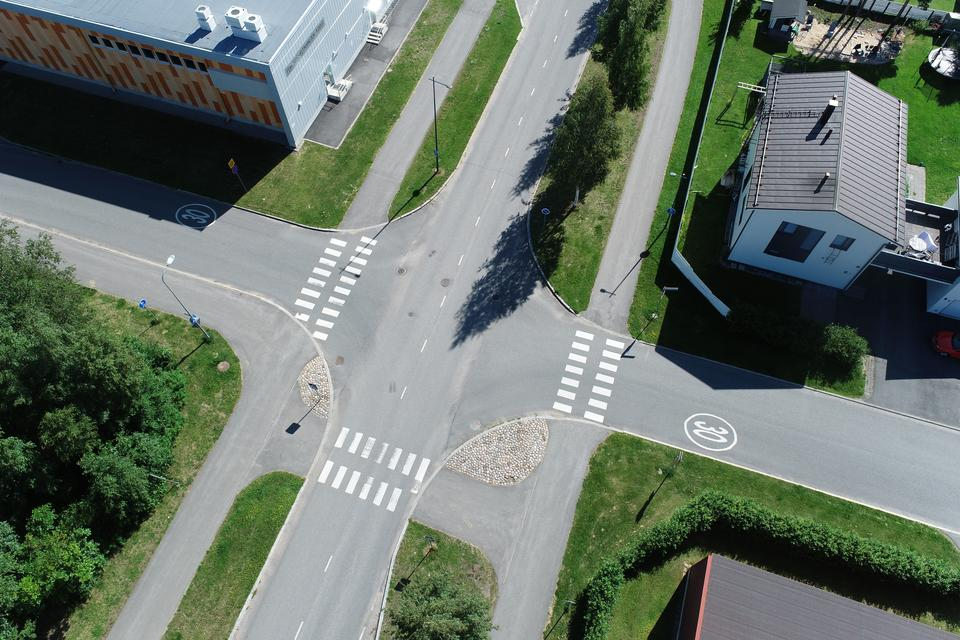intersection: (211, 166, 650, 569)
